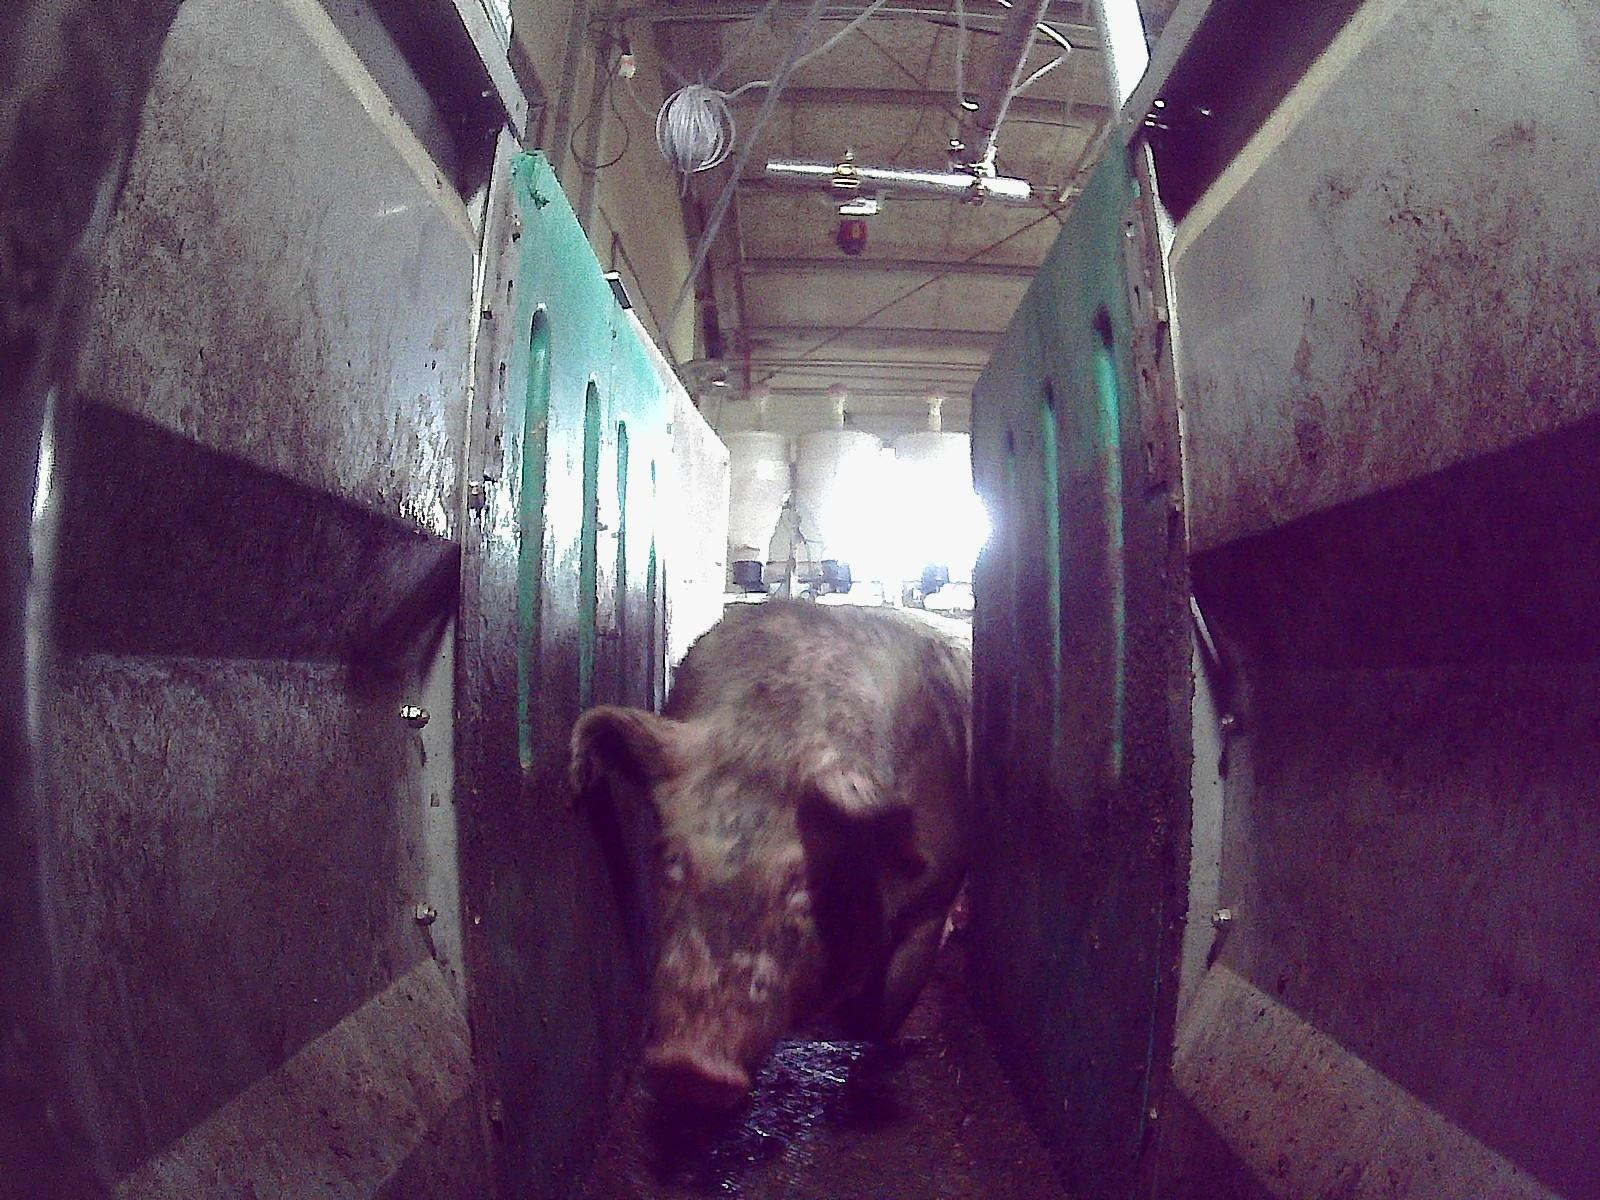Face: (639, 717, 859, 1103)
